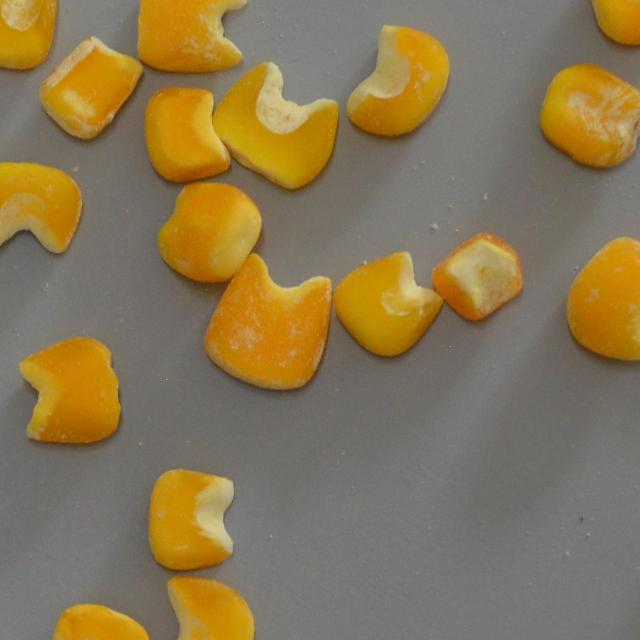dañado: (537, 56, 640, 172)
no_canjicado: (142, 86, 232, 184), (136, 571, 258, 640)
no_desgerminado: (210, 57, 340, 194), (44, 598, 154, 640)
pelicula: (202, 249, 334, 399), (342, 19, 452, 140), (331, 245, 446, 360), (36, 26, 146, 142), (16, 335, 126, 448), (153, 180, 264, 284), (143, 462, 240, 576), (563, 233, 640, 364), (130, 0, 248, 78), (430, 230, 524, 324), (0, 156, 84, 260), (0, 0, 59, 72), (584, 0, 640, 48)
